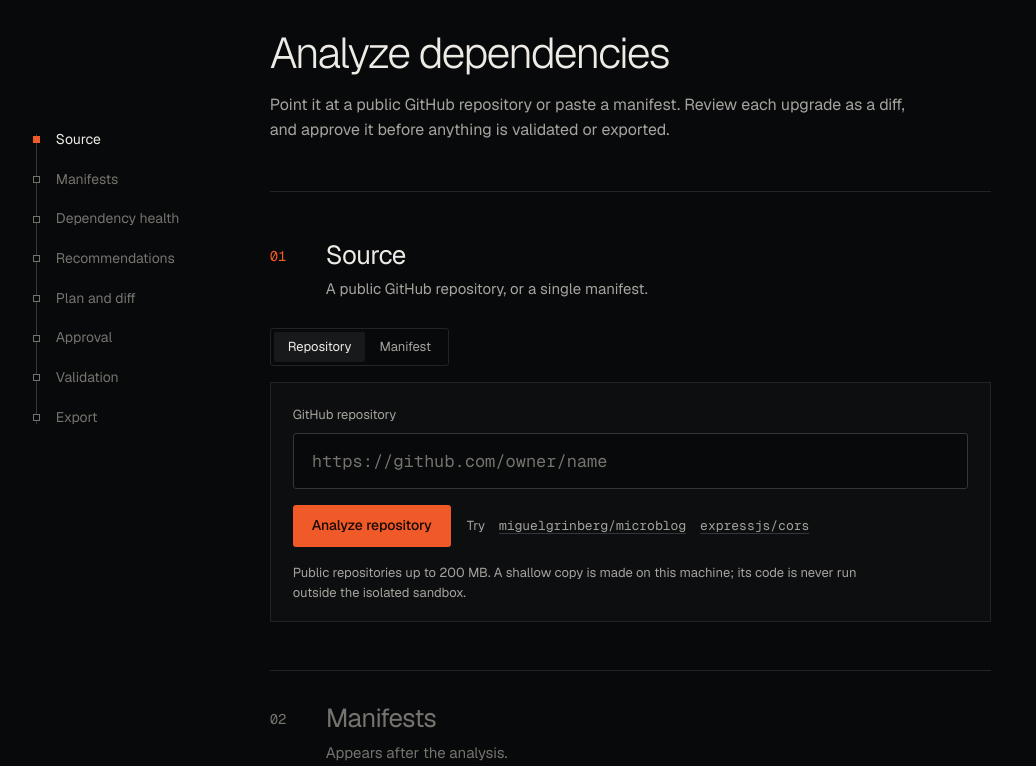
Test: ManifestAnalyzer Component › marks versions that came from offline data instead of the registry
Click the tab with test id "source-manifest": (405, 347) [366,332,445,362]
(page scrolled)
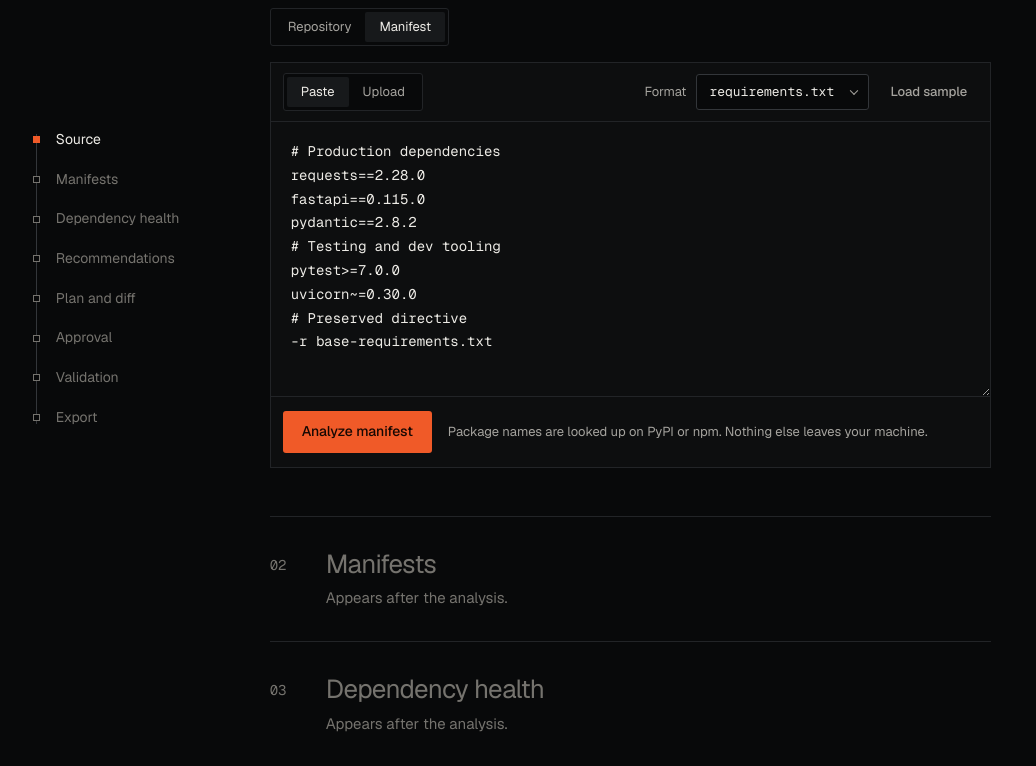
Click the button with test id "btn-analyze": (357, 432) [283,411,432,453]
(page scrolled)
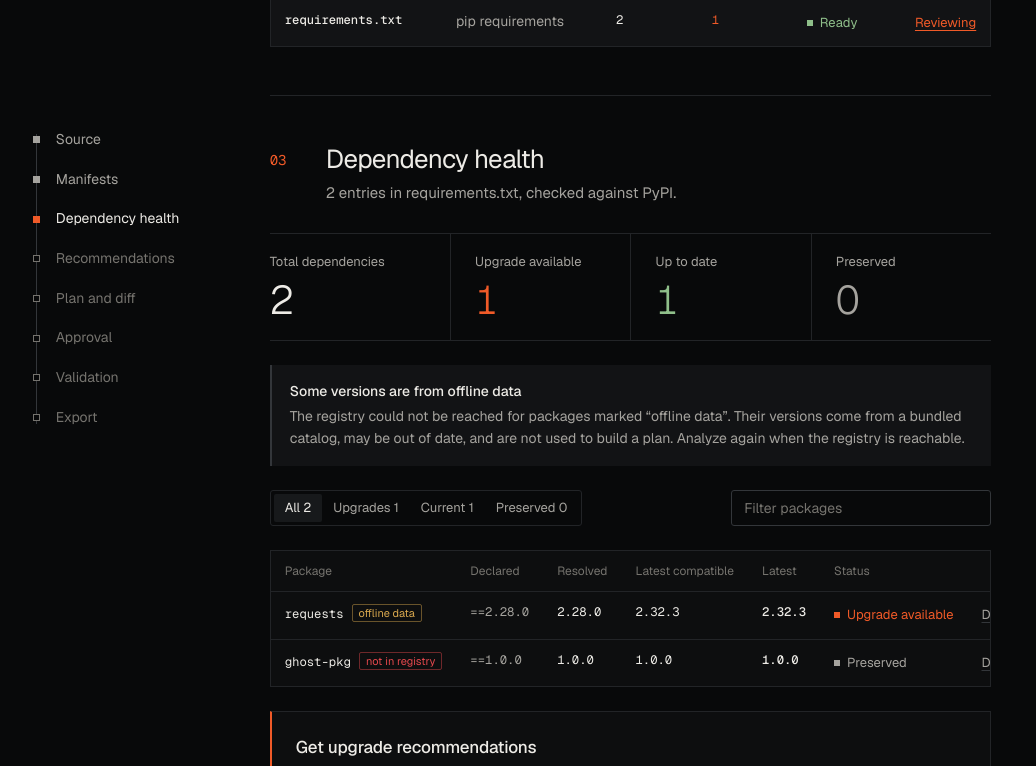
Expected: the element with test id "offline-catalog-notice" is shown, [270,365,991,466]
Expected: the text "offline data" is shown, [352,604,422,622]
Expected: the text "not in registry" is shown, [359,652,442,670]
